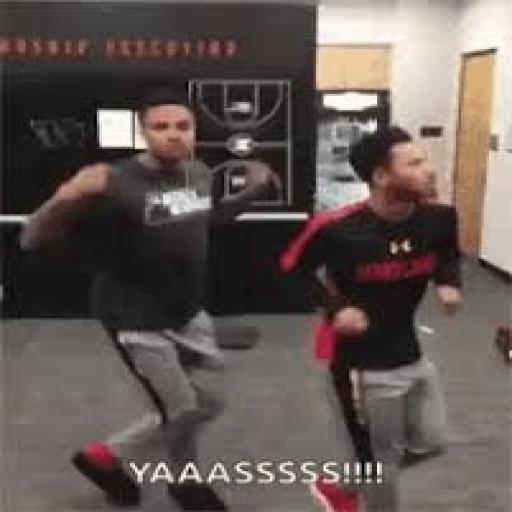running: (16, 90, 286, 510), (273, 122, 471, 482)
